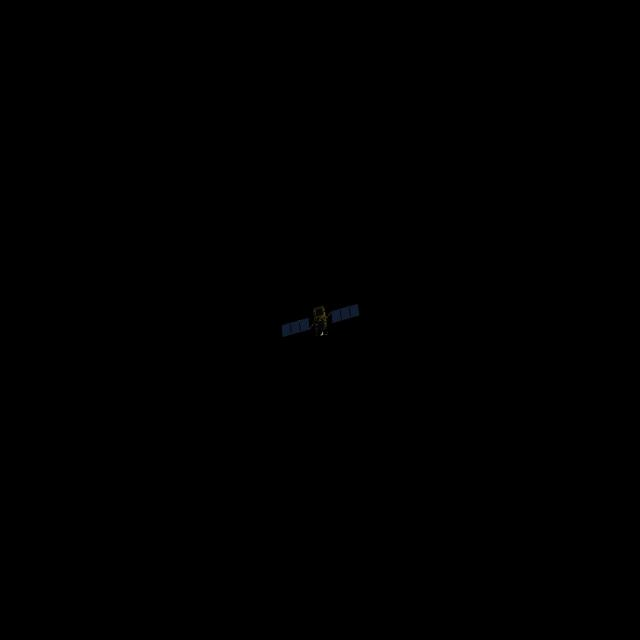medium_debris: (284, 301, 359, 341)
